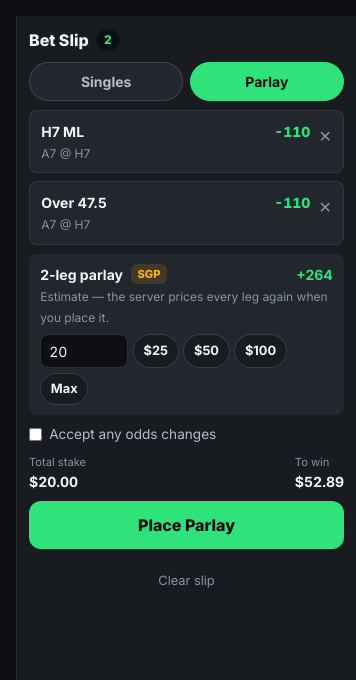
Test: BetSlip › places a same-game parlay as one bet at the estimated price
Expected: the text "SGP" is shown, left=131, top=264, right=167, bottom=284
Expected: the text "+264" is shown, left=296, top=264, right=333, bottom=285
Click the button "Place Parlay": (186, 526) left=29, top=502, right=344, bottom=550
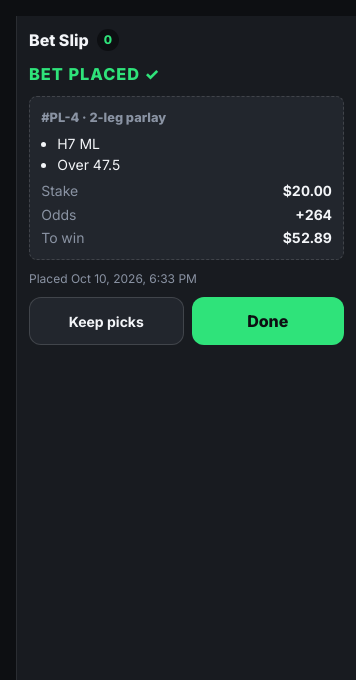
Expected: the text "#PL-4" is shown, left=41, top=110, right=79, bottom=125
